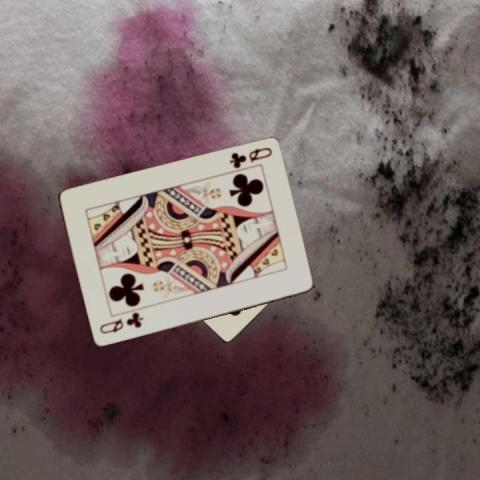Qc: (96, 311, 145, 336), (227, 145, 273, 170)
